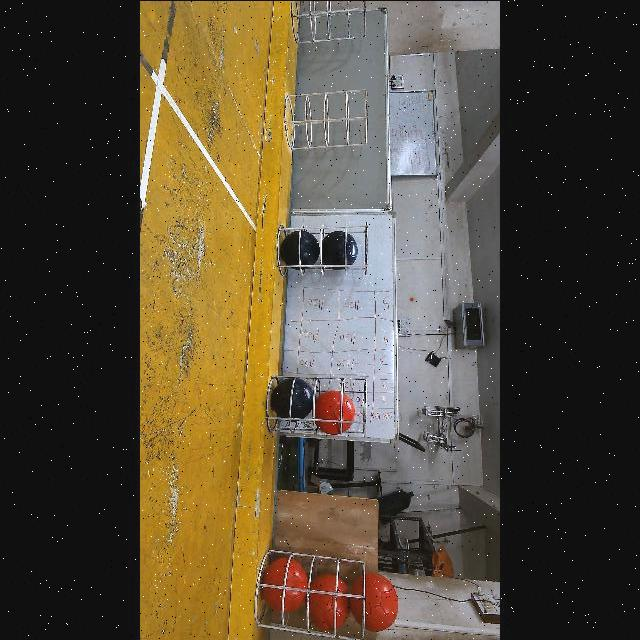P: (271, 376, 314, 421), (280, 230, 320, 270), (321, 230, 359, 269)
R: (350, 572, 399, 631), (261, 558, 306, 615), (309, 574, 352, 631), (315, 389, 356, 434)
S: (262, 560, 366, 638), (274, 220, 371, 278), (265, 378, 361, 436), (282, 94, 368, 144), (286, 1, 372, 40)
